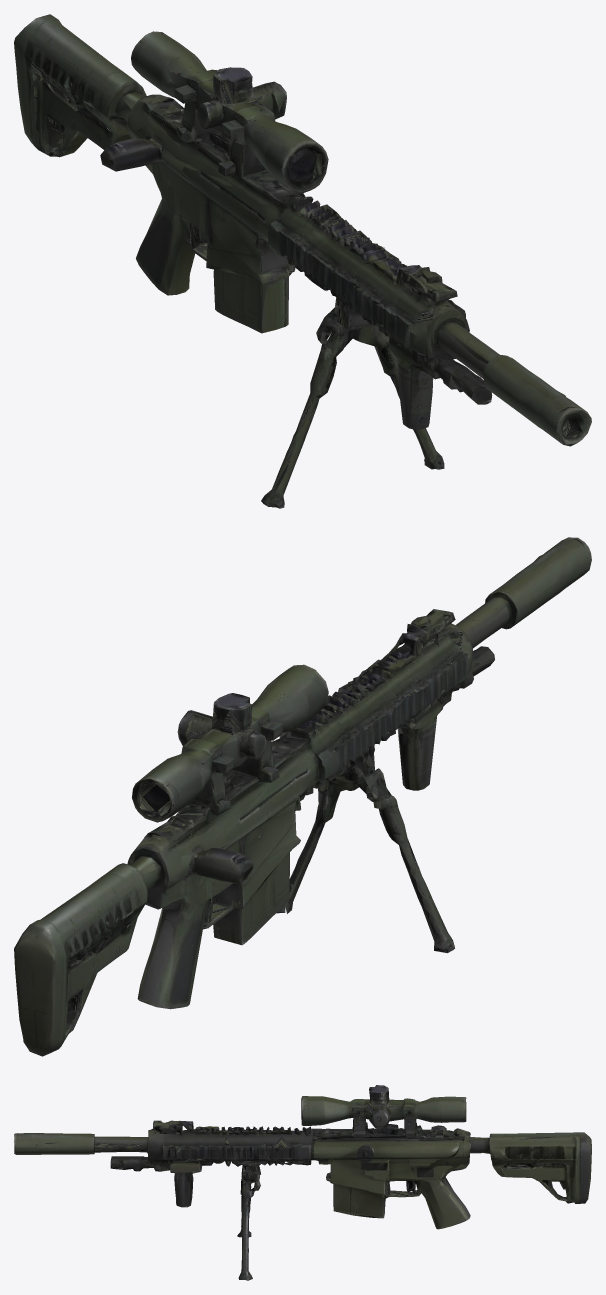
Rendered from sniper_rifle.glb.
3 views of the same model, one above another, from view 1: azimuth 30°, elevation 25°; view 2: azimuth 150°, elevation 25°; view 3: azimuth 270°, elevation 25° (orthographic). The views are drawn at different scales.
Parts seen in each view (by area): view 1: model, mesh_lod; view 2: model, mesh_lod; view 3: model, mesh_lod.
Part boxes in pixels (x1,y1,x2,y2): model: [14, 14, 591, 508]; mesh_lod: [24, 19, 587, 494]; model: [14, 537, 591, 1056]; mesh_lod: [22, 549, 585, 1040]; model: [14, 1085, 591, 1280]; mesh_lod: [15, 1085, 589, 1279].
Size of the model in its own units: 0.2303 by 0.3906 by 1.2.
Materials: 1 (1 with a texture image).
